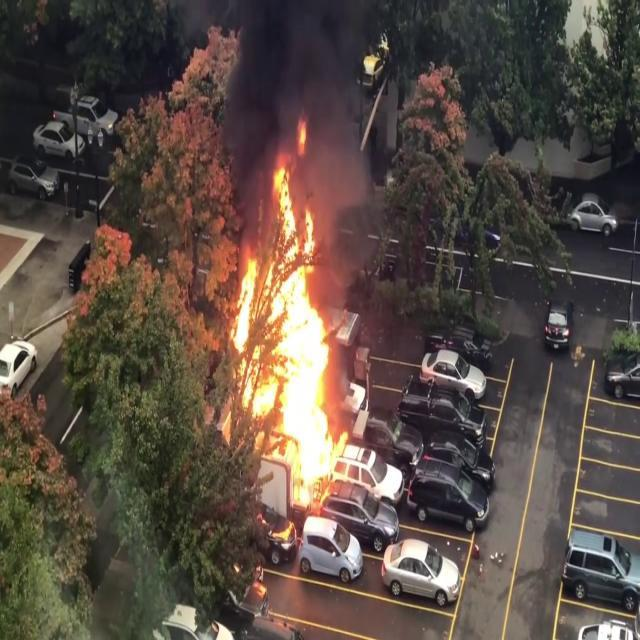Fire: (220, 137, 372, 515)
Smoke: (218, 0, 384, 211)
